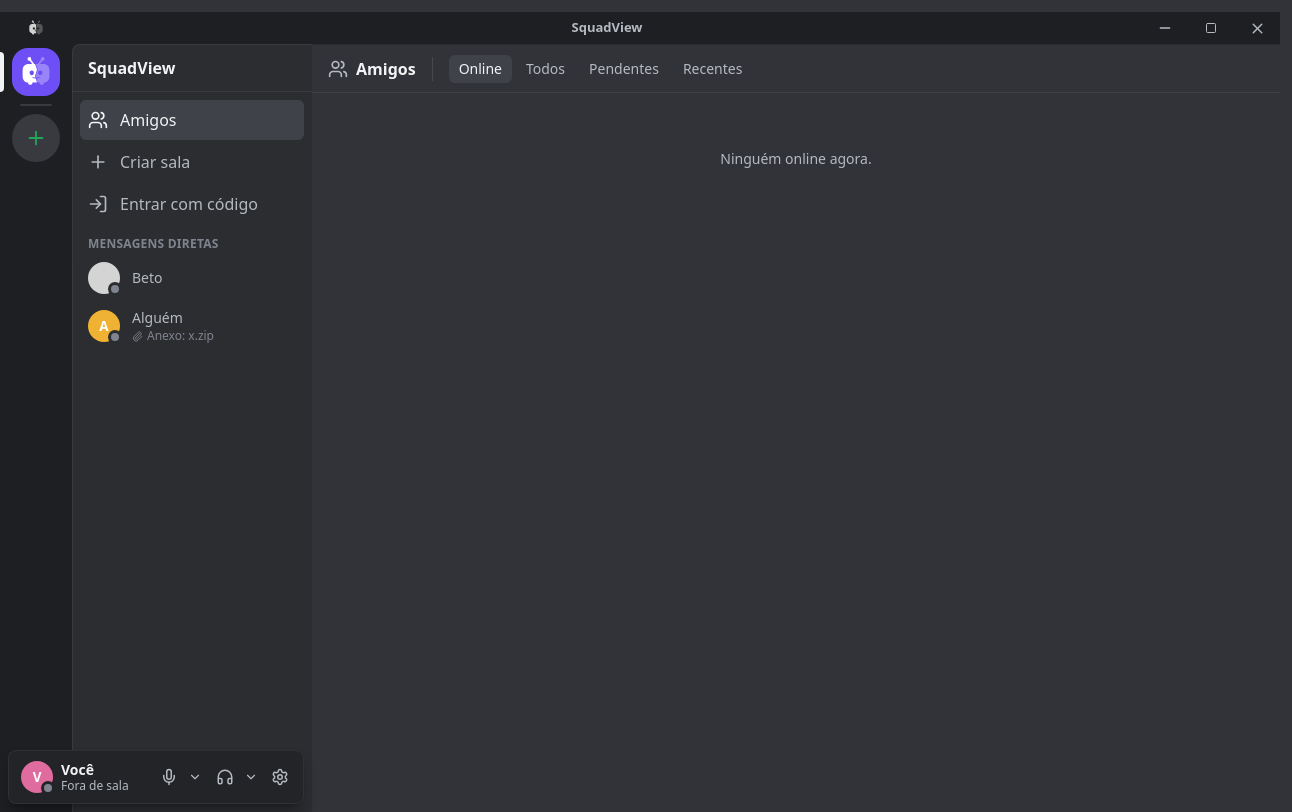
Test: mensagens privadas › separa os dias, agrupa a mesma pessoa e mostra as fotos de perfil
Click the button with aria-label "Conversa com Beto". click: [192, 278]
box: [80,256,304,300]
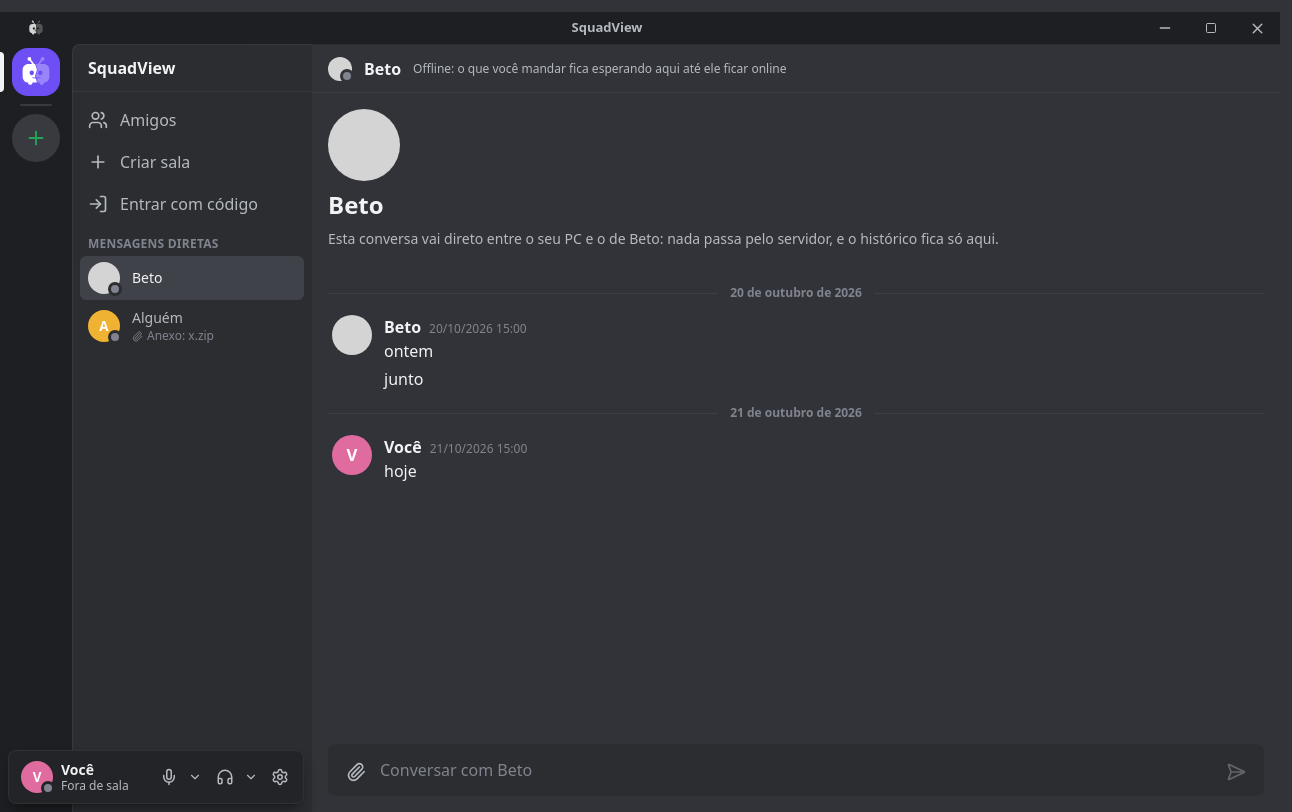
expect the text "ontem" is shown: met, box [384,340,433,362]
expect the text "20 de outubro de 2026" is shown: met, box [730,284,862,301]
expect the text "21 de outubro de 2026" is shown: met, box [730,404,862,421]
